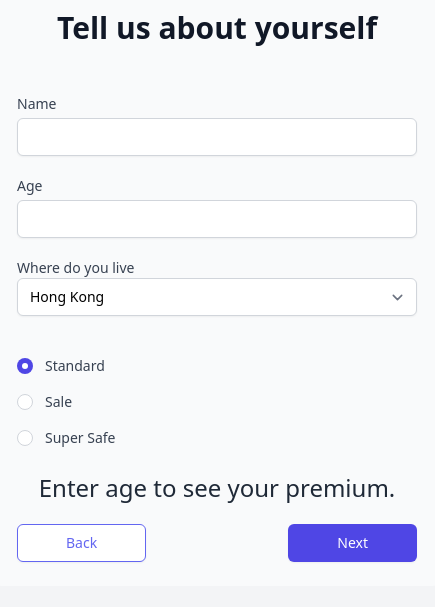
Test: Start Page Spec › Visit start page with name and NO age › Should show age is required
Type "John Doe" into the field named "name".
click(217, 137); type("John Doe")  # box x1=17 y1=118 x2=417 y2=156
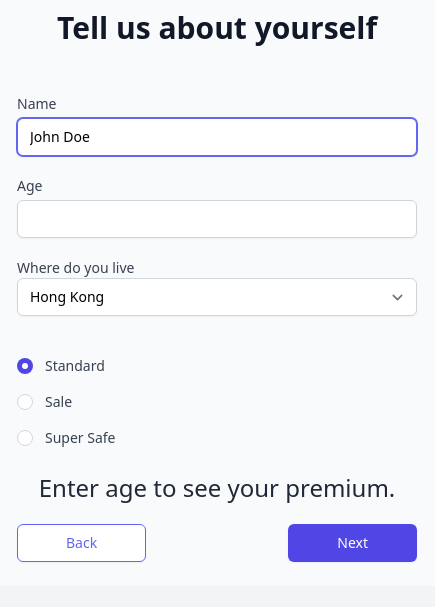
Click the button "Next".
click(353, 543)  # box x1=288 y1=524 x2=417 y2=562
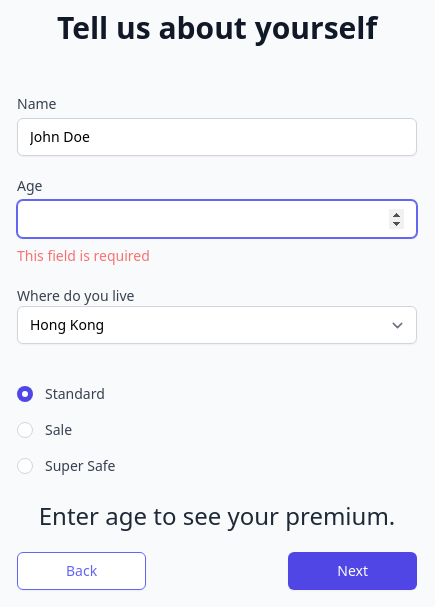
Expected: the heading "Enter age to see your premium." is shown, x1=17 y1=500 x2=417 y2=532
Now the text with id "age" reads "This field is required", box x1=17 y1=246 x2=150 y2=265
